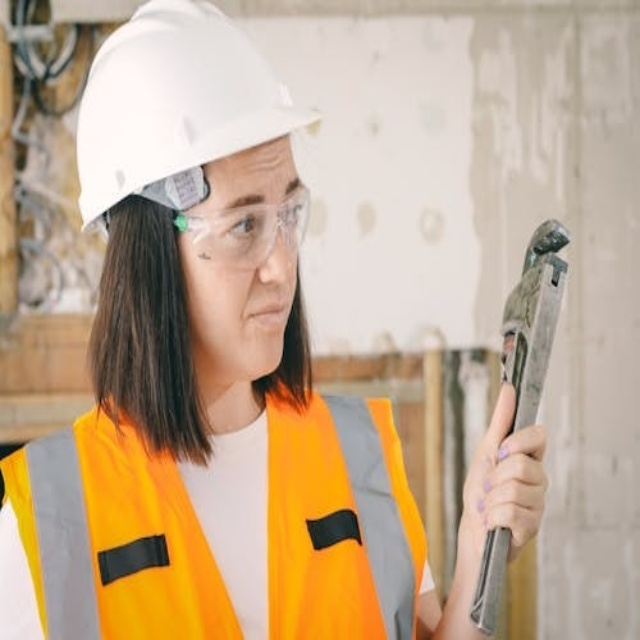Gafas: (171, 182, 311, 267)
Sin_guantes: (462, 396, 550, 569)
Sin_mascara: (221, 292, 292, 372)
